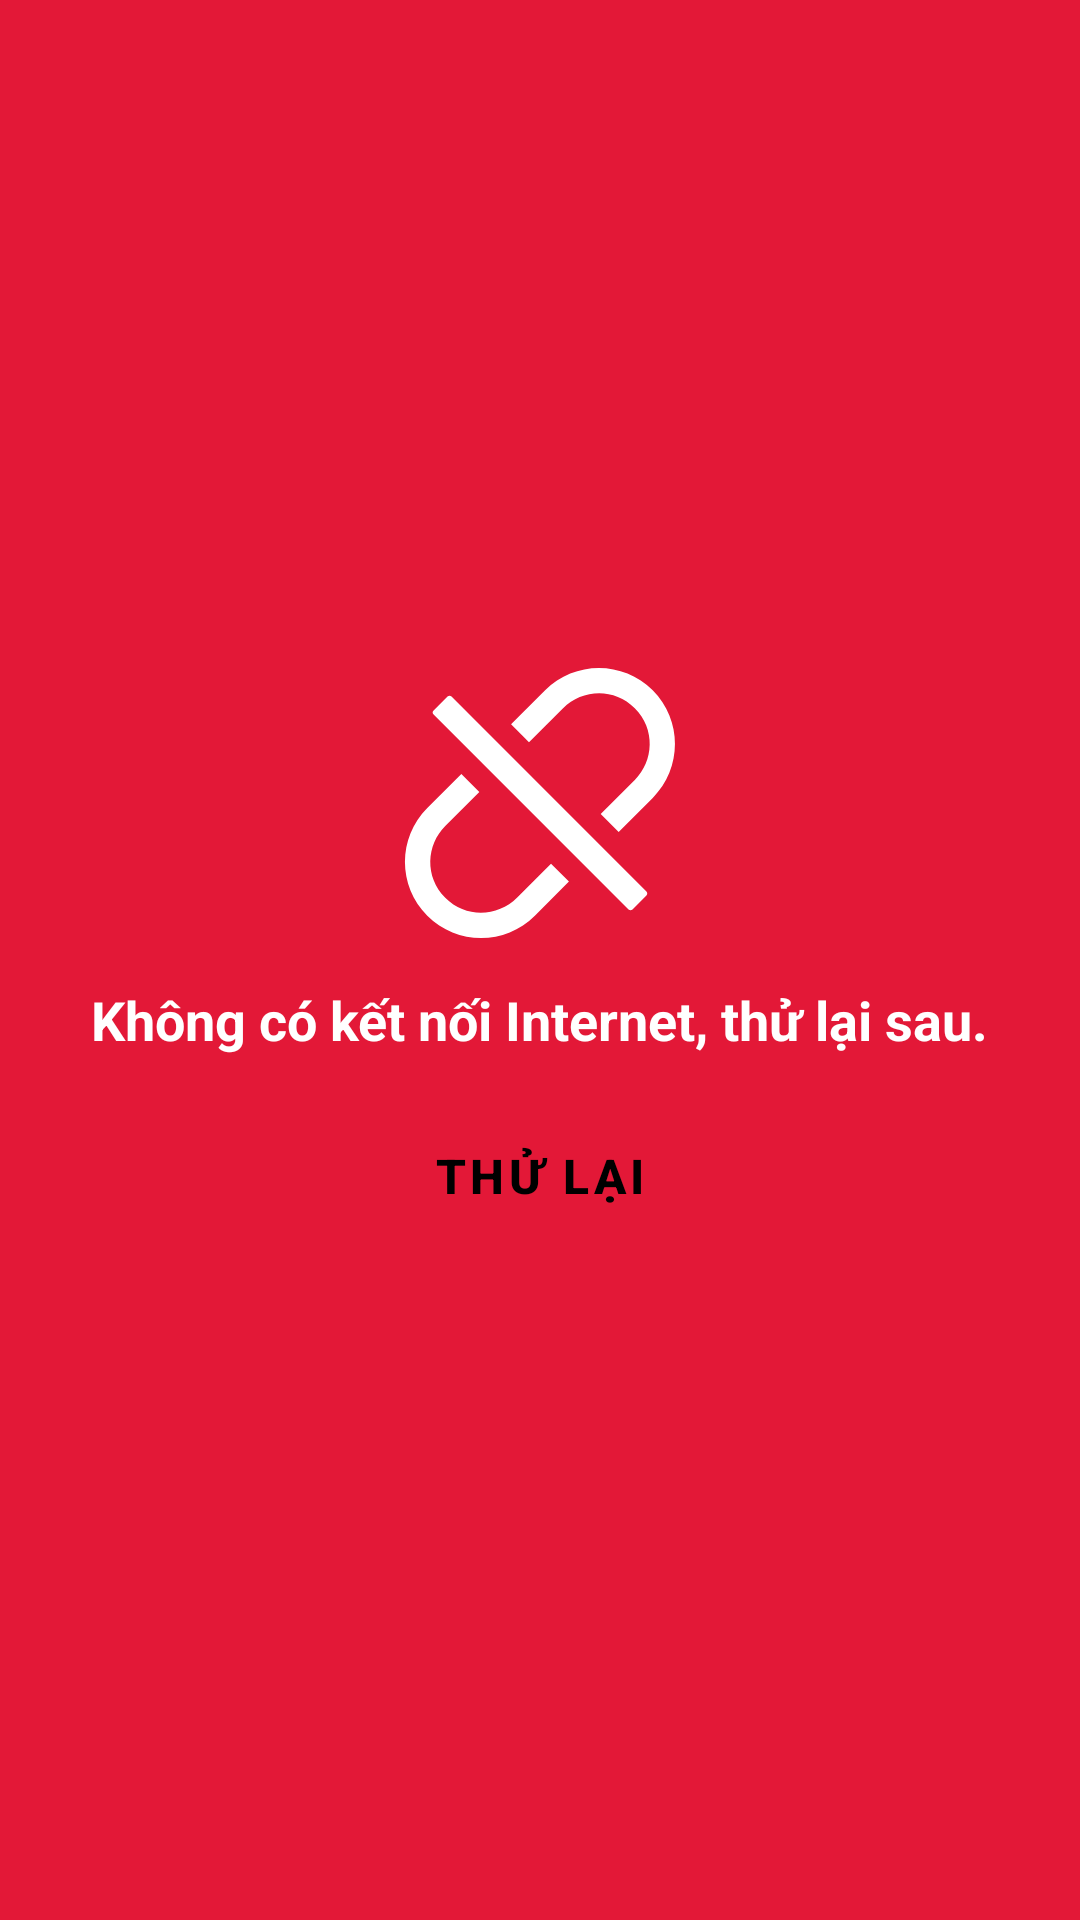

Where icons sit on this 1080x1920 app screen, as (x1, y1, x2, y2):
disconnect: (405, 668, 675, 938)
